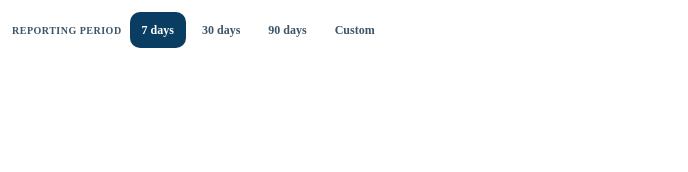
Scenario: command center range frame › keeps a custom window local, loading the widest window once
The width and height of the screenshot is (688, 172).
Click the button "Custom" at {"x": 355, "y": 30}, box [323,12,387,48]
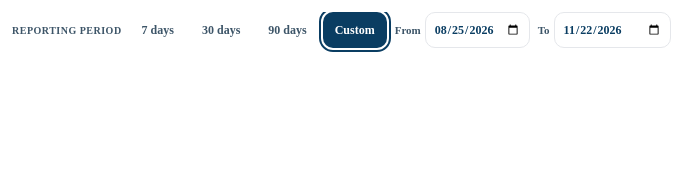
Now the date field labelled "From" is shown, box [425,12,530,48]
Now the date field labelled "To" is shown, box [554,12,671,48]
